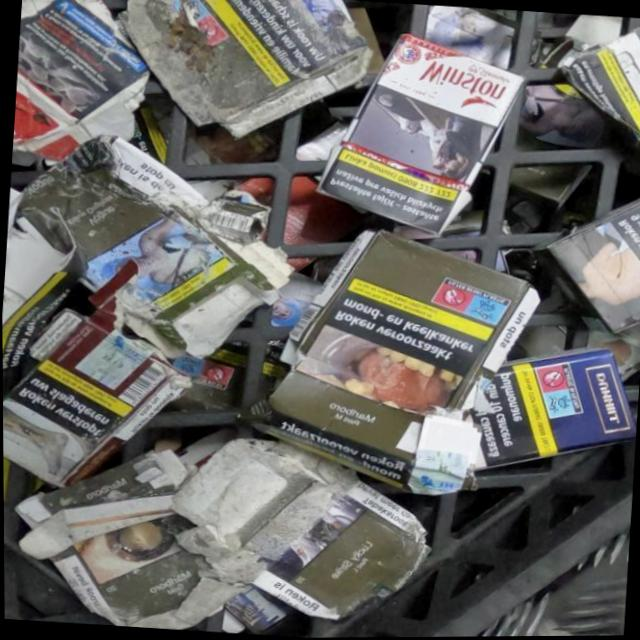Paper: (226, 218, 547, 503), (1, 124, 306, 368), (158, 428, 441, 628), (3, 437, 255, 635), (308, 25, 531, 242), (110, 0, 379, 150), (2, 302, 200, 497), (159, 261, 325, 419), (464, 338, 640, 485), (10, 0, 158, 174), (521, 151, 640, 338), (506, 38, 622, 216), (1, 185, 94, 376), (541, 12, 640, 168)
